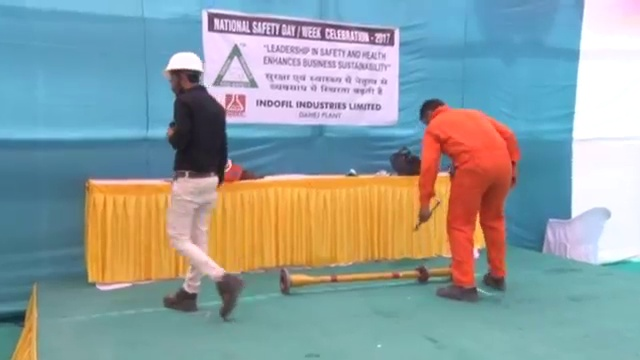helmet: (163, 51, 205, 77)
helmet_off: (418, 95, 441, 125)
helmet_on: (163, 51, 204, 97)
person: (160, 49, 246, 319), (414, 89, 521, 298)
